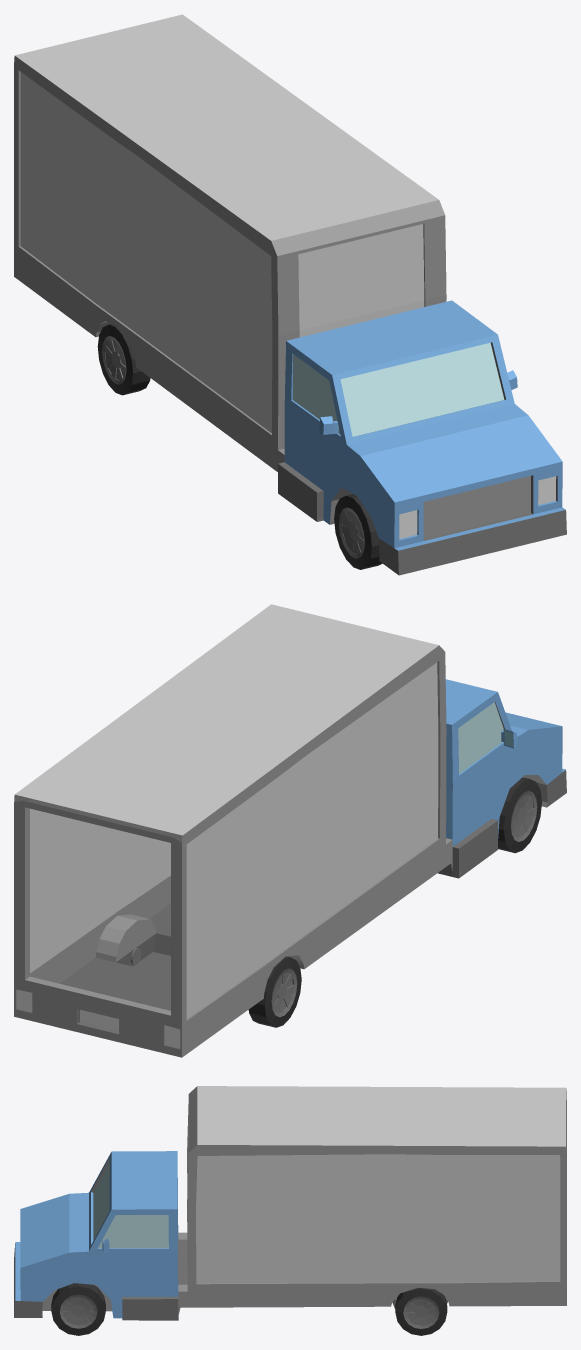
The model's file is lowPoly_truck.fbx.
3 views of the same model, one above another, from view 1: azimuth 30°, elevation 25°; view 2: azimuth 150°, elevation 25°; view 3: azimuth 270°, elevation 25° (orthographic). The views are drawn at different scales.
Parts seen in each view (by area): view 1: Cube.009; view 2: Cube.009; view 3: Cube.009.
Boxes of the visible parts, <box> form: Cube.009: <box>14,14,566,575</box>; Cube.009: <box>14,604,566,1057</box>; Cube.009: <box>14,1086,566,1335</box>.
Size of the model in its own units: 131 by 171 by 448.
